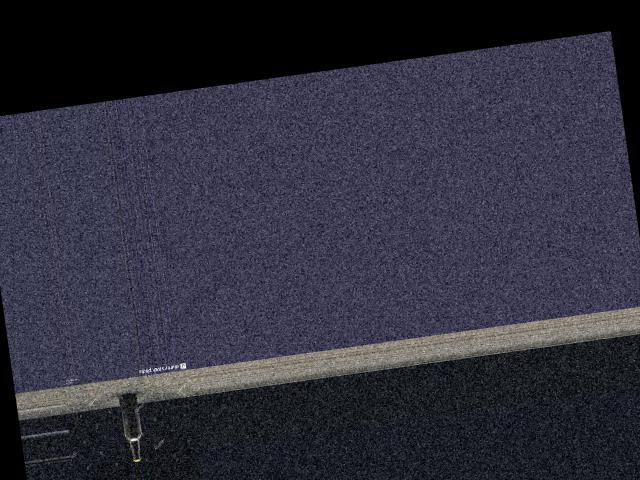beer: (118, 393, 143, 462)
